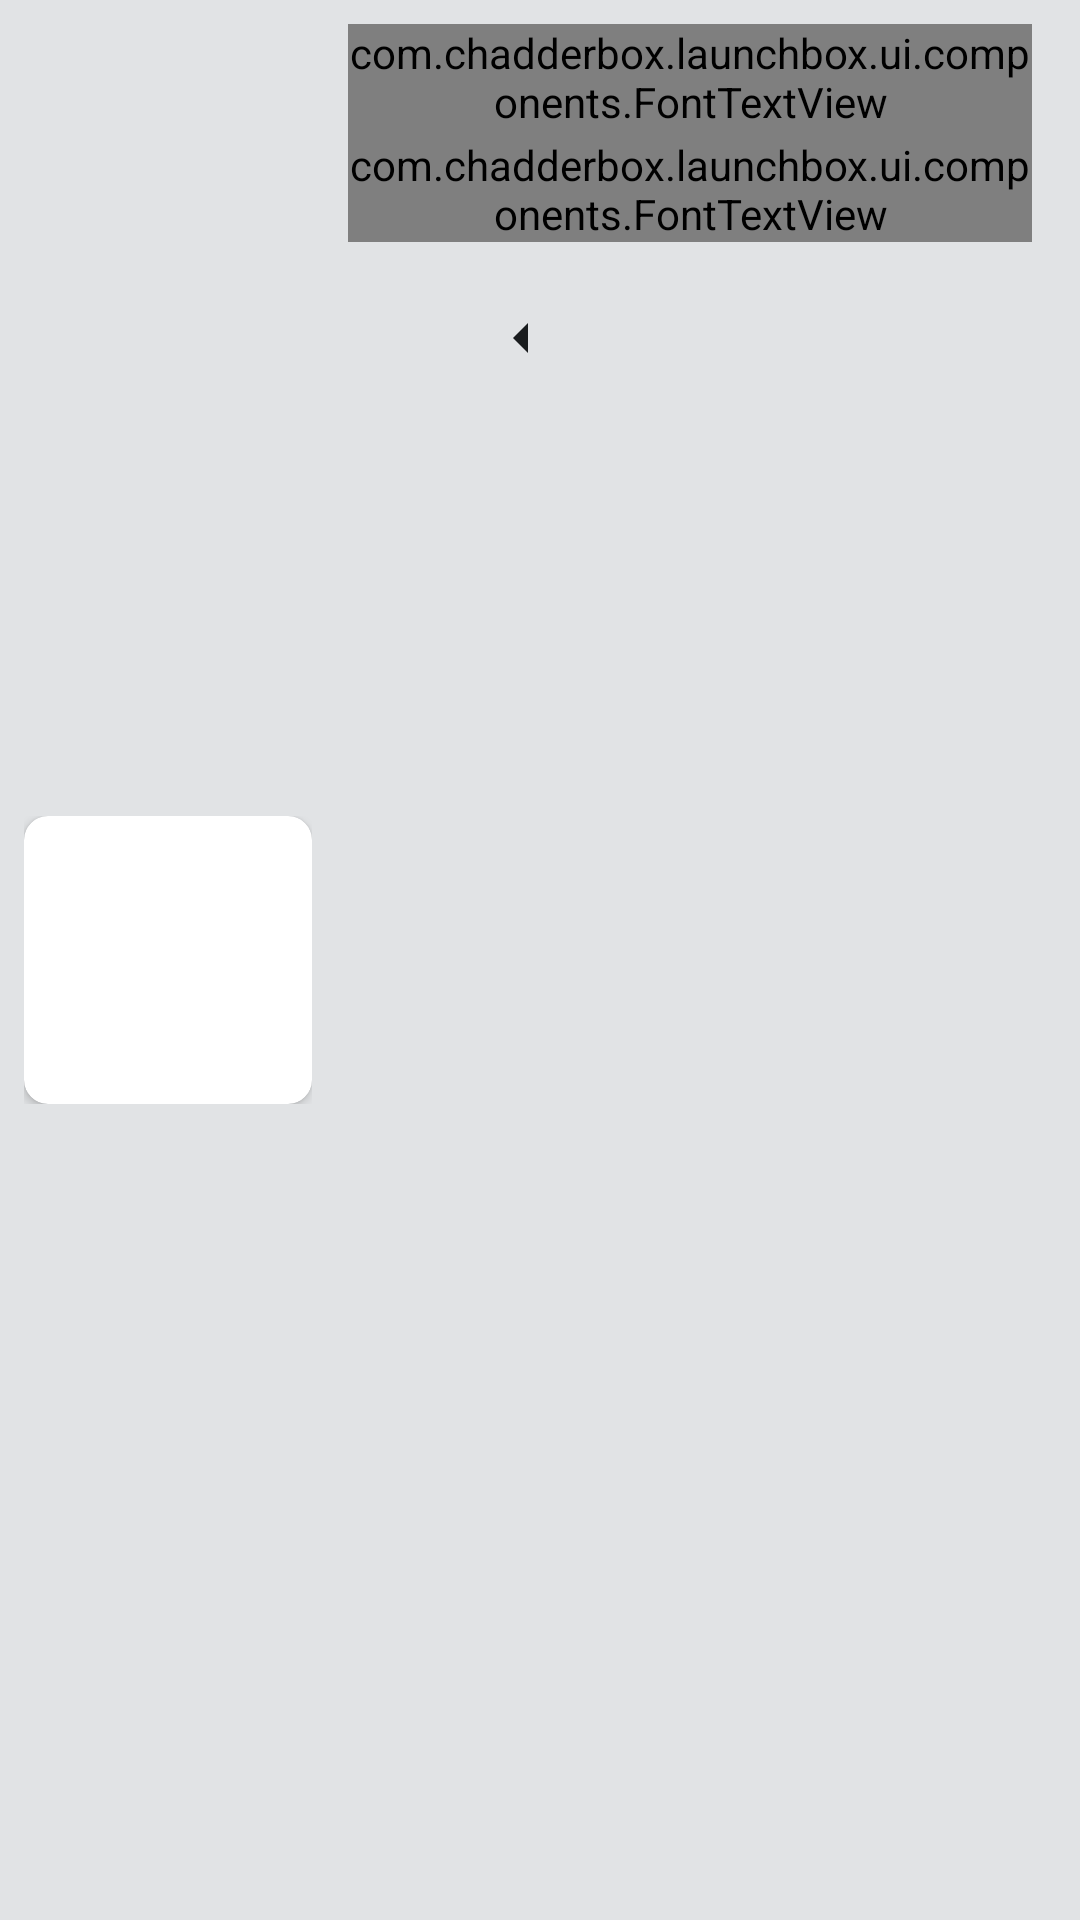

Locate icon controls on the screen. Image size 1080×1920, boxes as (x1, y1, x2, y2).
previous: (513, 323, 528, 353)
